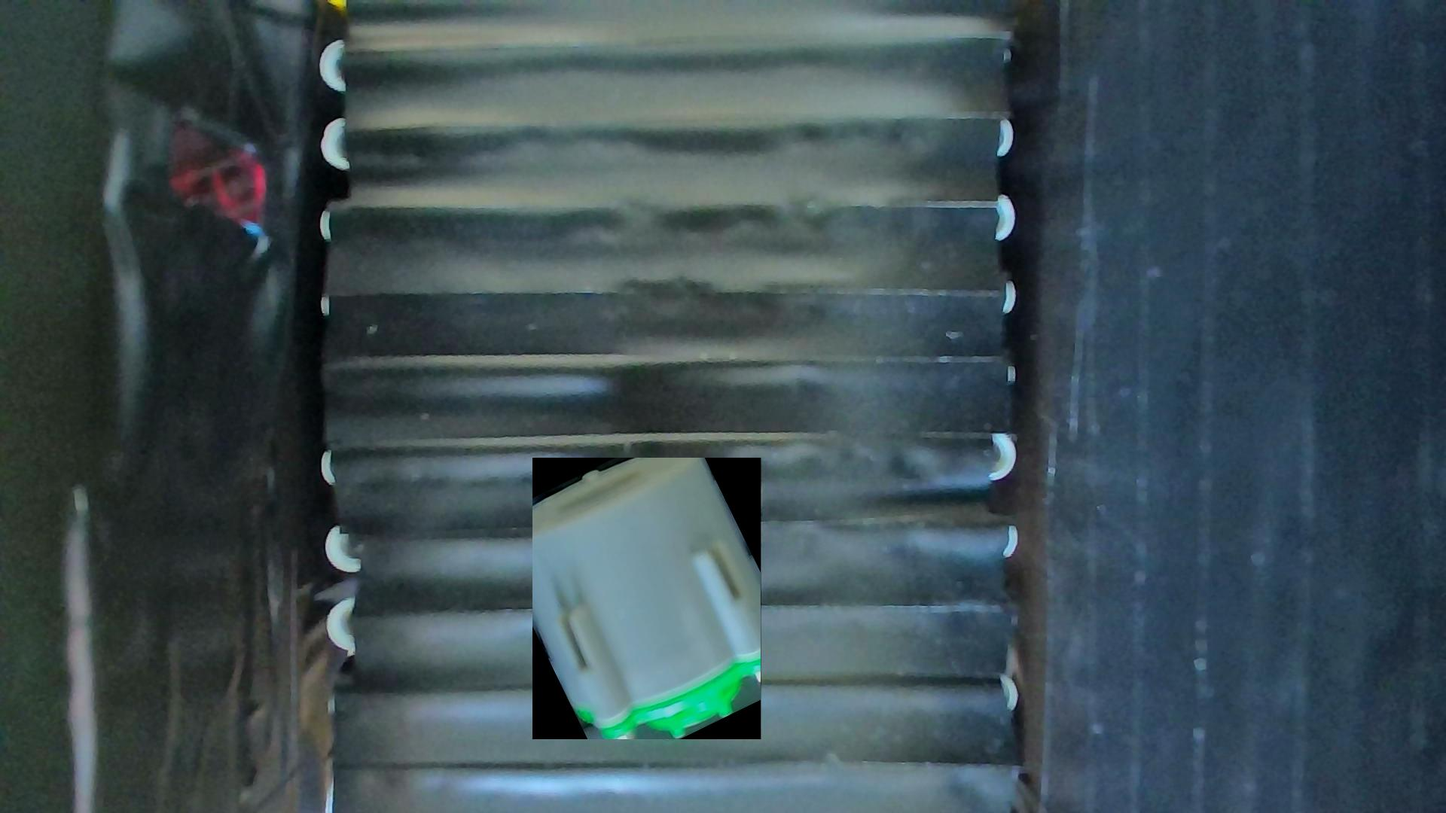cartridge: (533, 458, 762, 739)
